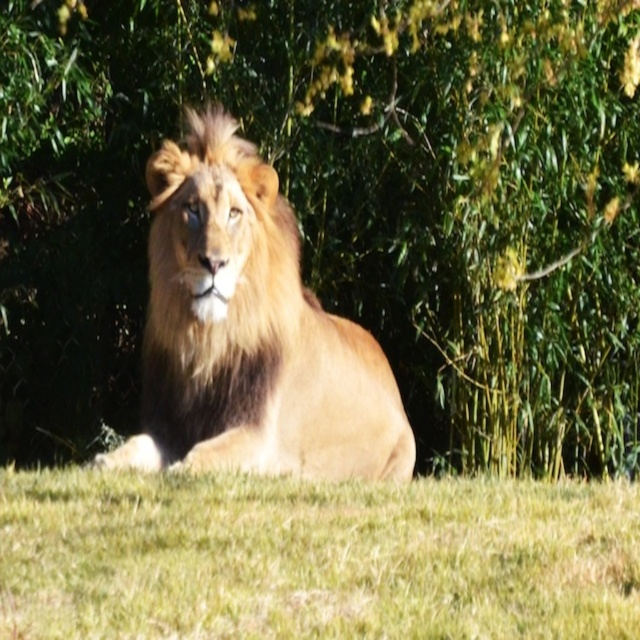Lion: (99, 96, 414, 477)
